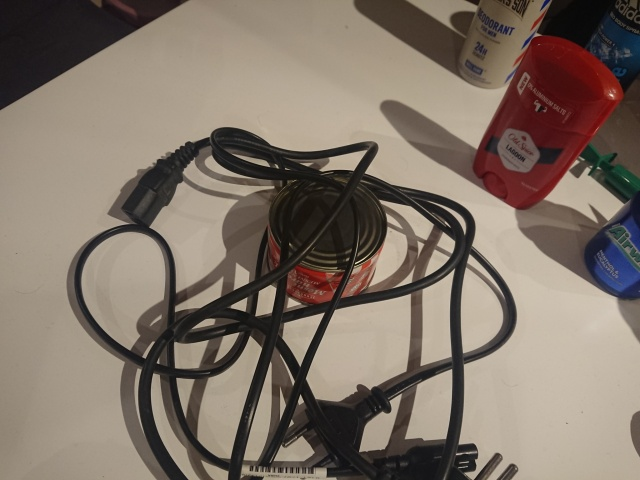Podravka Luncheon Meat 150g: (263, 172, 390, 310)
